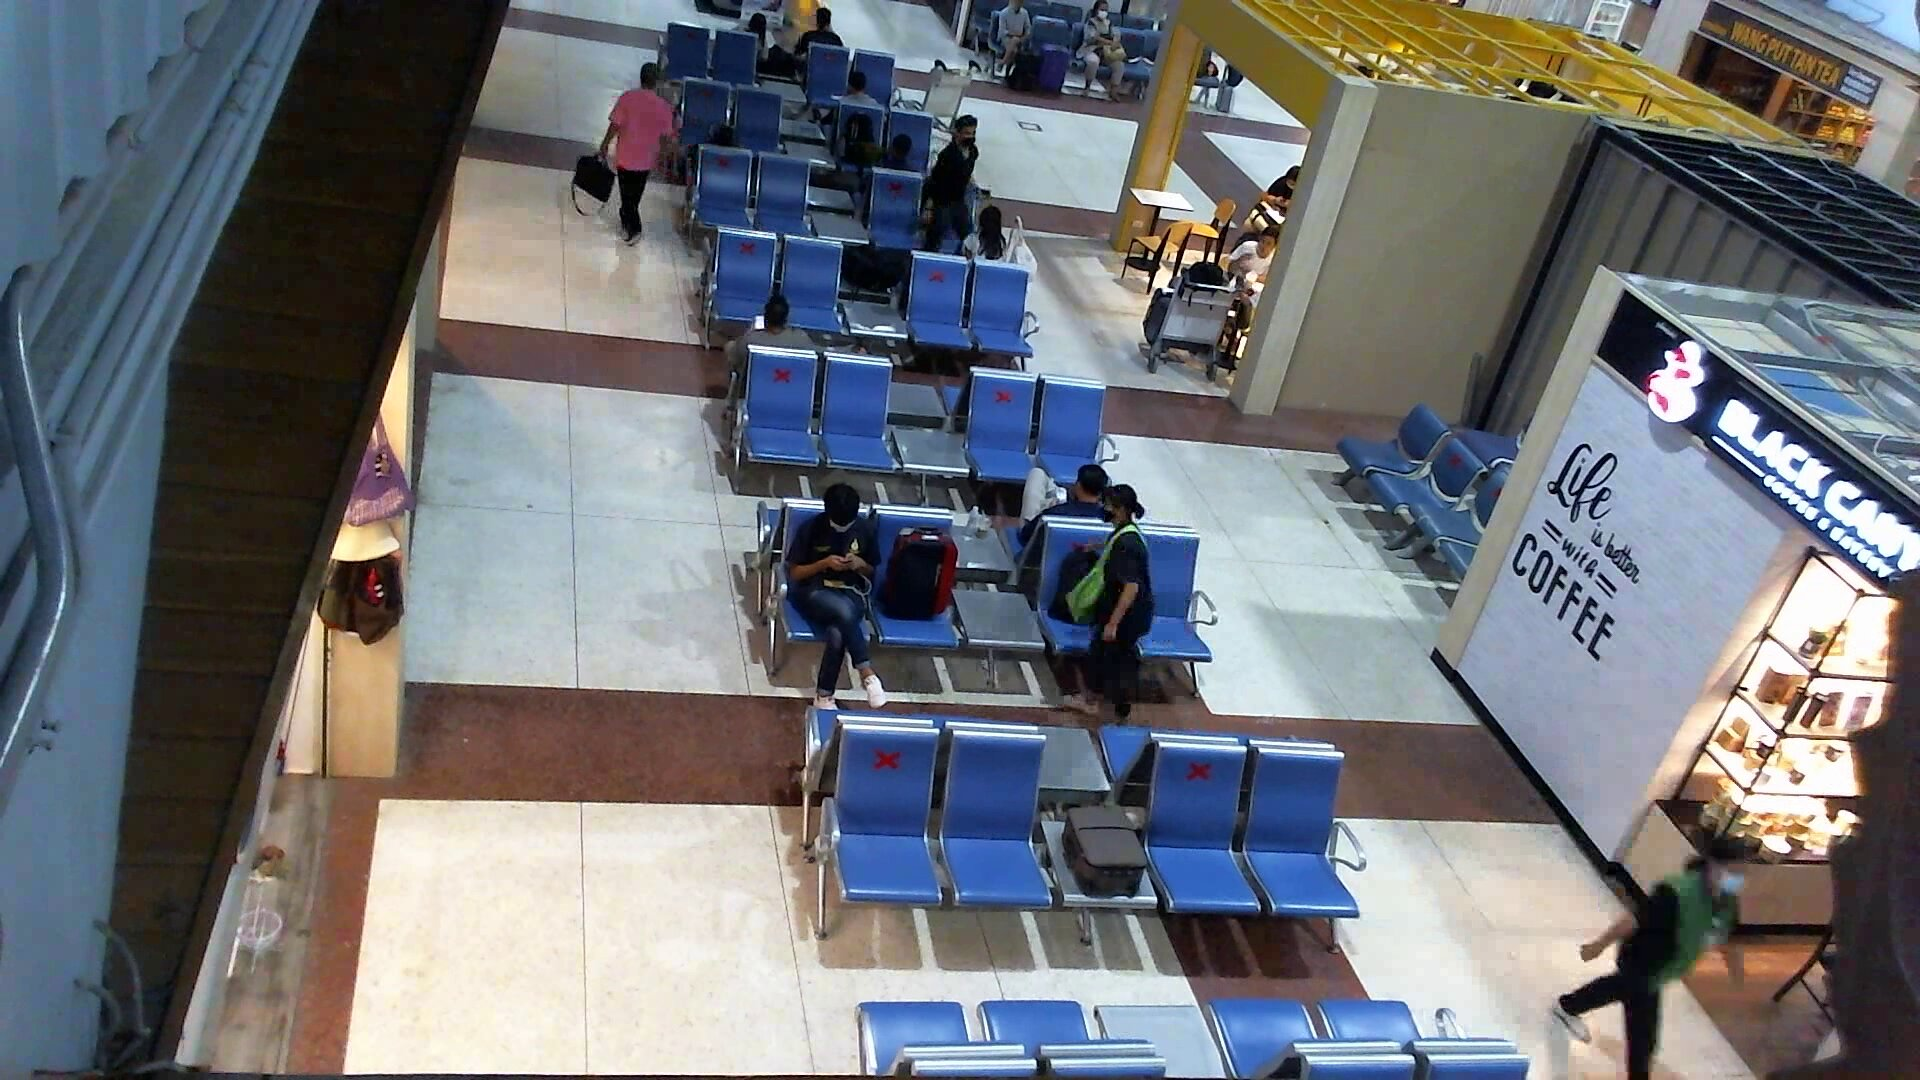backpack: (1054, 542, 1117, 627)
bag: (331, 393, 423, 536), (566, 142, 623, 225)
luggage: (1054, 801, 1155, 898), (880, 519, 968, 627)
people: (1548, 828, 1761, 1080), (782, 476, 898, 735), (1068, 487, 1162, 728), (592, 56, 697, 259), (708, 285, 831, 404), (920, 99, 998, 267), (1012, 461, 1131, 562), (1074, 1, 1134, 110), (949, 204, 1018, 282)
